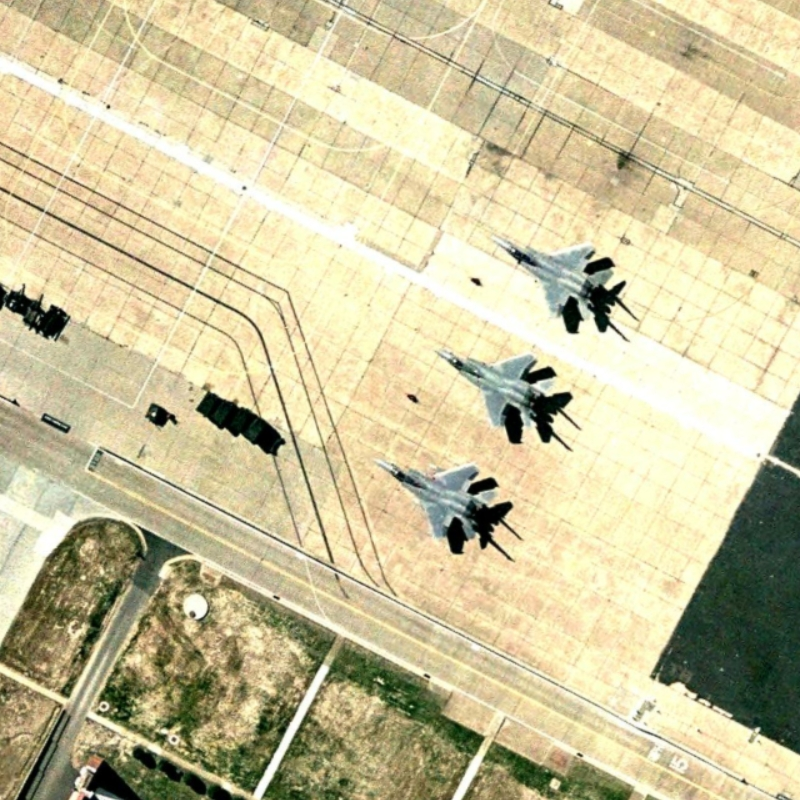A13: (483, 229, 619, 326), (368, 452, 502, 546), (426, 341, 558, 432)
